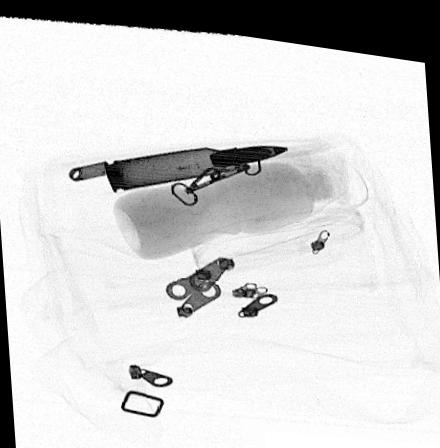Bullet: (101, 135, 291, 189)
